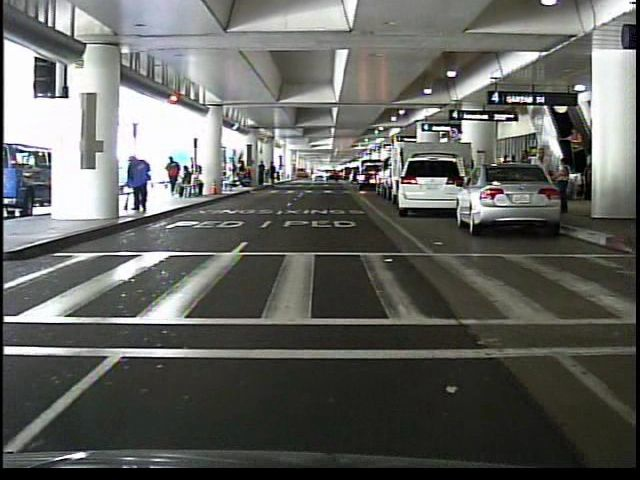person: (126, 152, 156, 215), (562, 123, 586, 171)
